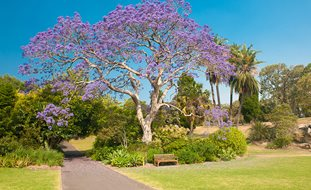grass: (119, 150, 309, 188), (1, 166, 62, 189)
tree: (131, 94, 164, 141)
